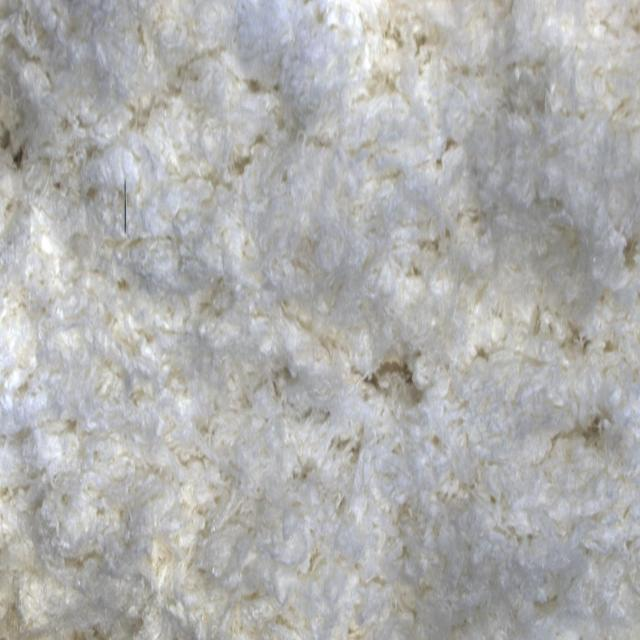dust: (96, 172, 166, 252)
